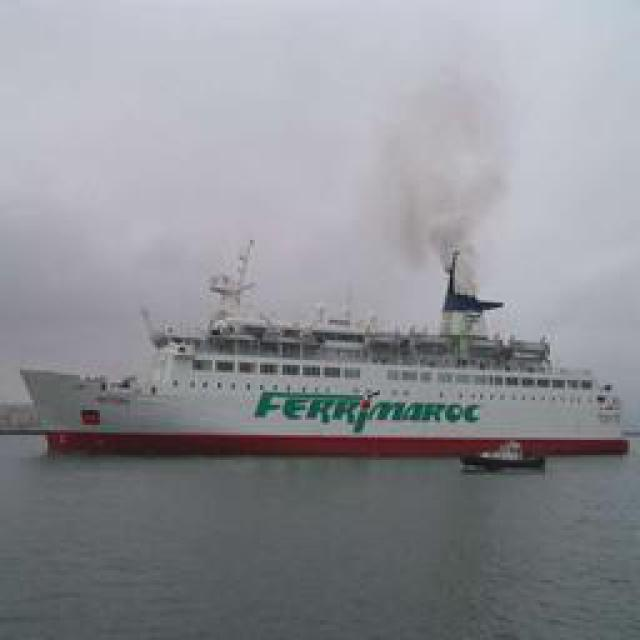Ship: (23, 239, 638, 454), (454, 431, 562, 482)
